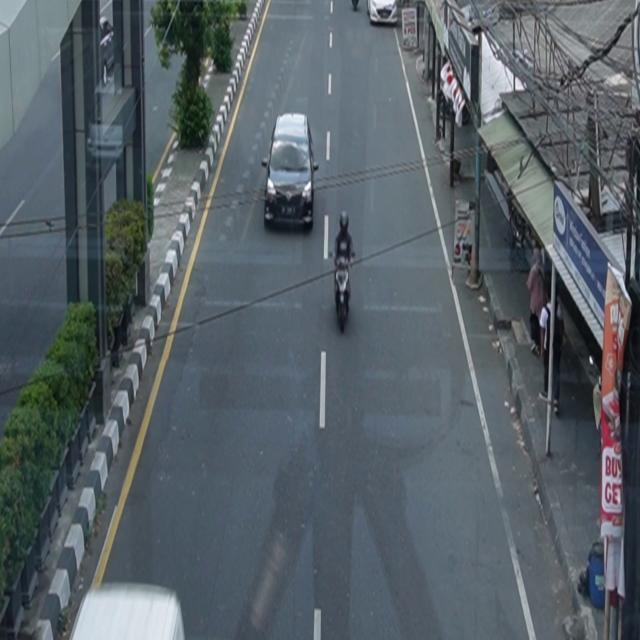car: (261, 112, 320, 231), (367, 1, 398, 26)
